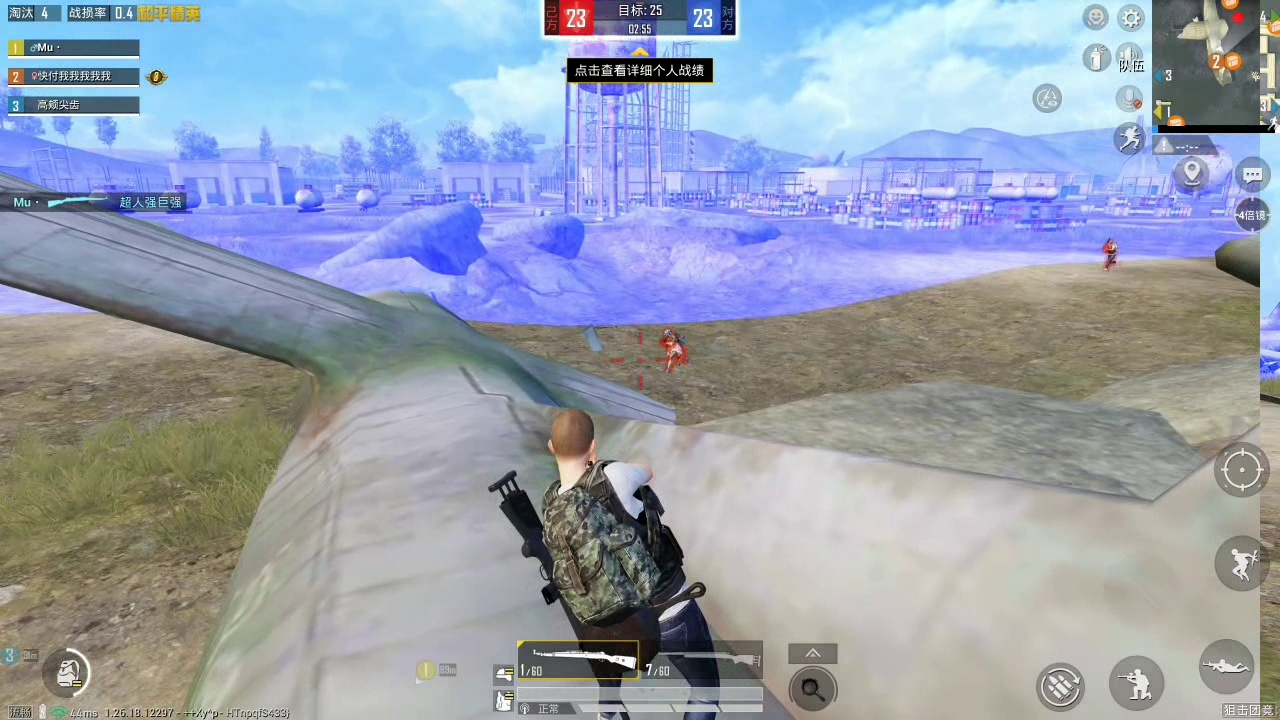enemy: (664, 328, 686, 375), (1100, 239, 1118, 269)
